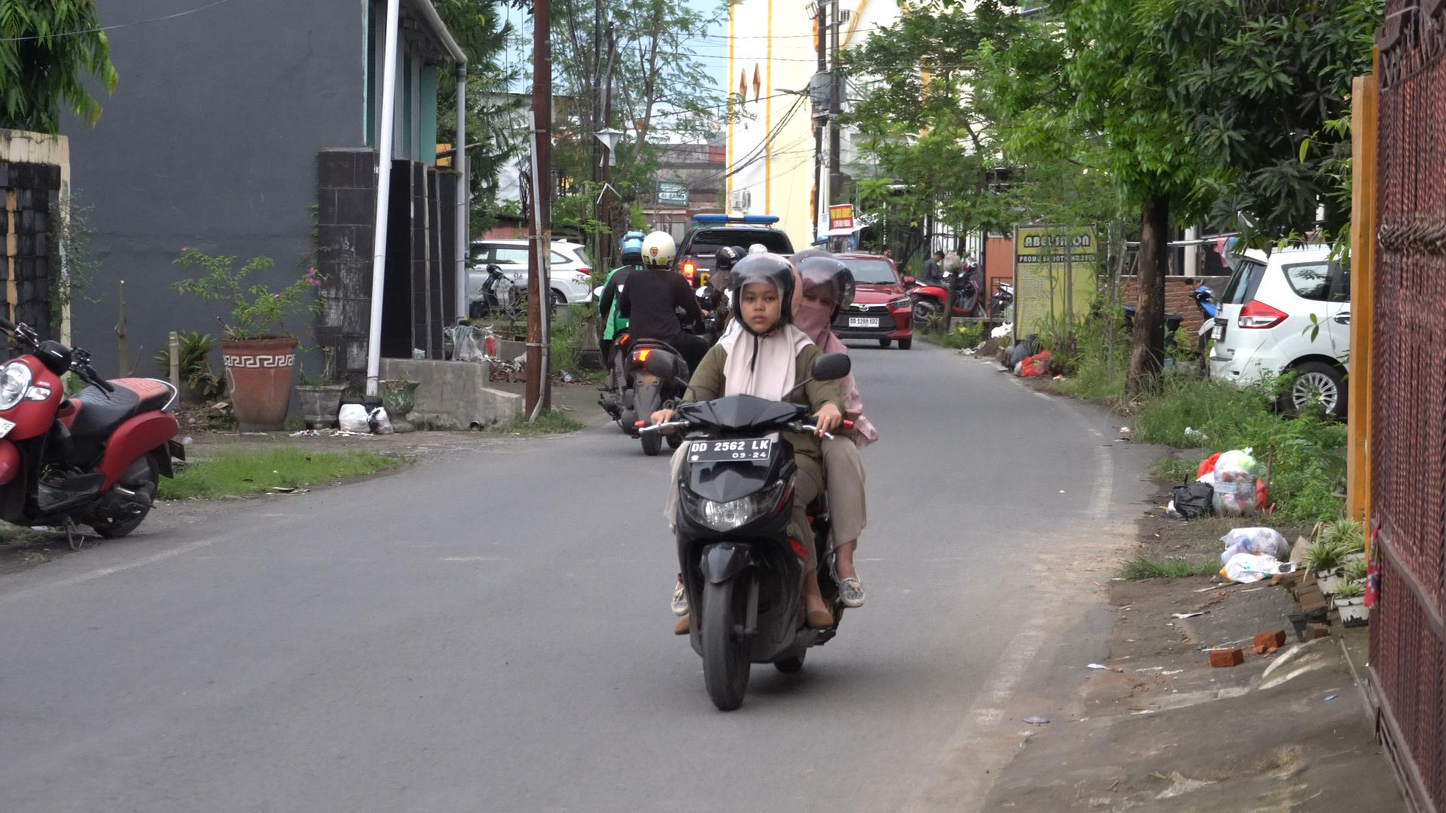number-plate: (688, 437, 768, 463)
